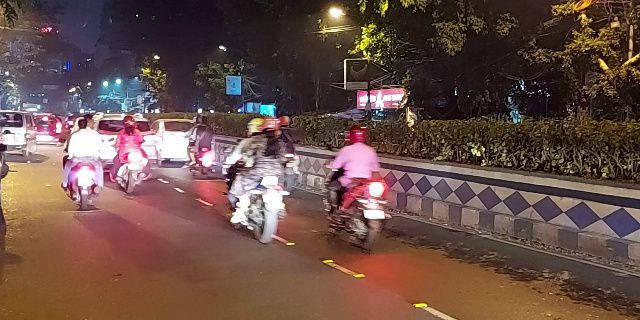Motorbike: (320, 128, 390, 255), (224, 112, 287, 246), (62, 111, 99, 214), (110, 112, 145, 193)
